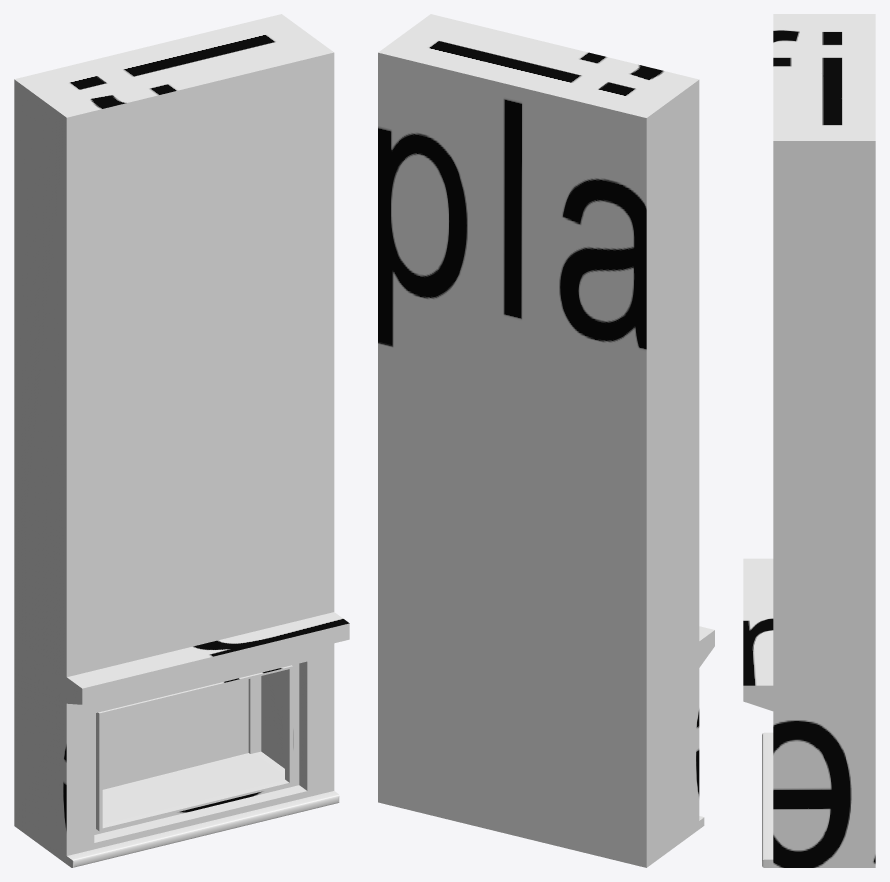
Rendered from FirePlace.fbx.
The picture shows the model from 3 angles, left to right: view 1: azimuth 30°, elevation 25°; view 2: azimuth 150°, elevation 25°; view 3: azimuth 270°, elevation 25°; orthographic projection. The views are drawn at different scales.
Visible parts, largest first — view 1: FirePlace; view 2: FirePlace; view 3: FirePlace.
Part boxes in pixels (bbox=[...]): FirePlace: bbox=[14, 14, 349, 867]; FirePlace: bbox=[378, 14, 714, 867]; FirePlace: bbox=[743, 14, 875, 867].
Bounding box in the file's own units: 801 × 2138 × 353.
